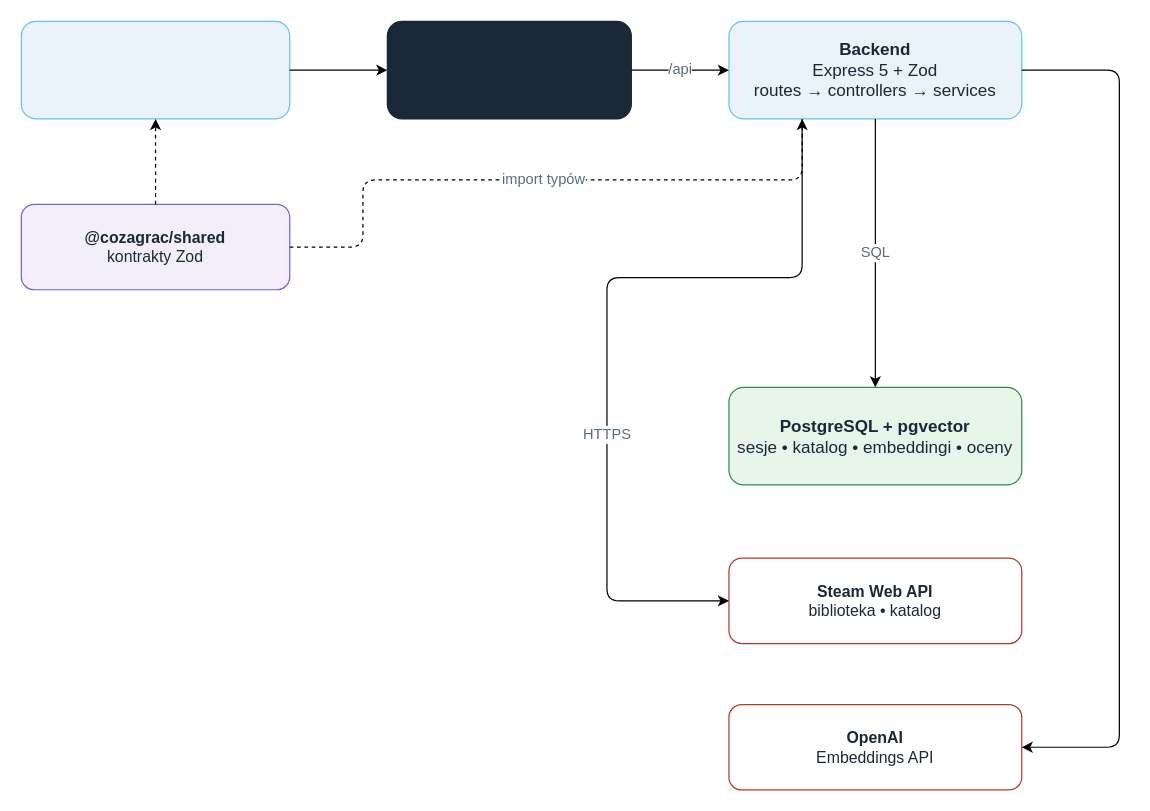
Image size: 1150x811. Some labels were removed from this diagram. The centre of each missing label's shape, as x and y in pixels:
Frontend React 19 SPA: the point at 155,69
nginx edge / TLS: the point at 508,69
